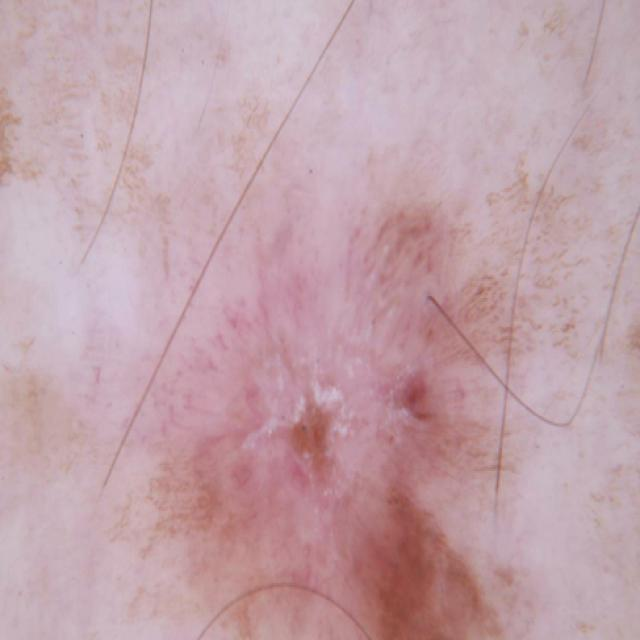Carcinoma: (129, 205, 528, 640)
